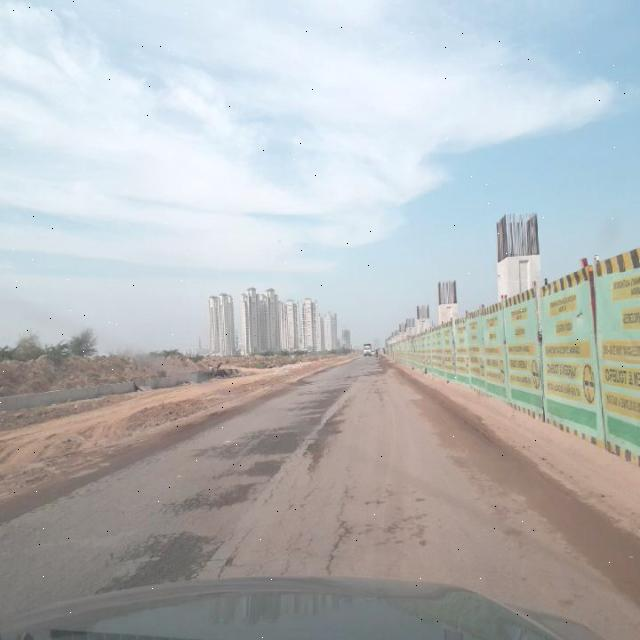D00: (223, 445, 314, 578), (319, 471, 365, 573)
D20: (95, 412, 272, 588)
